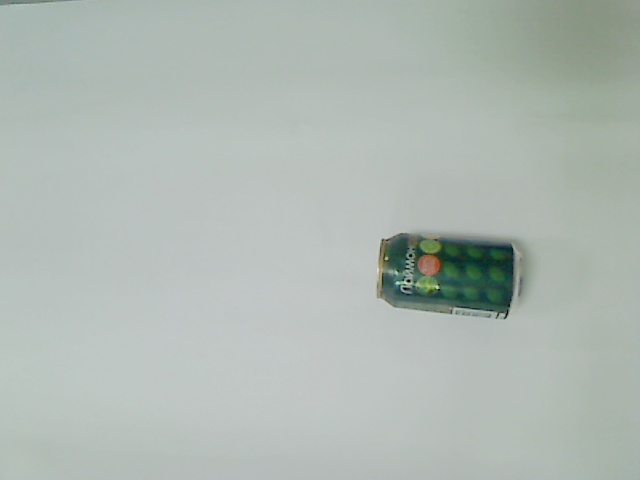can: (374, 230, 527, 324)
